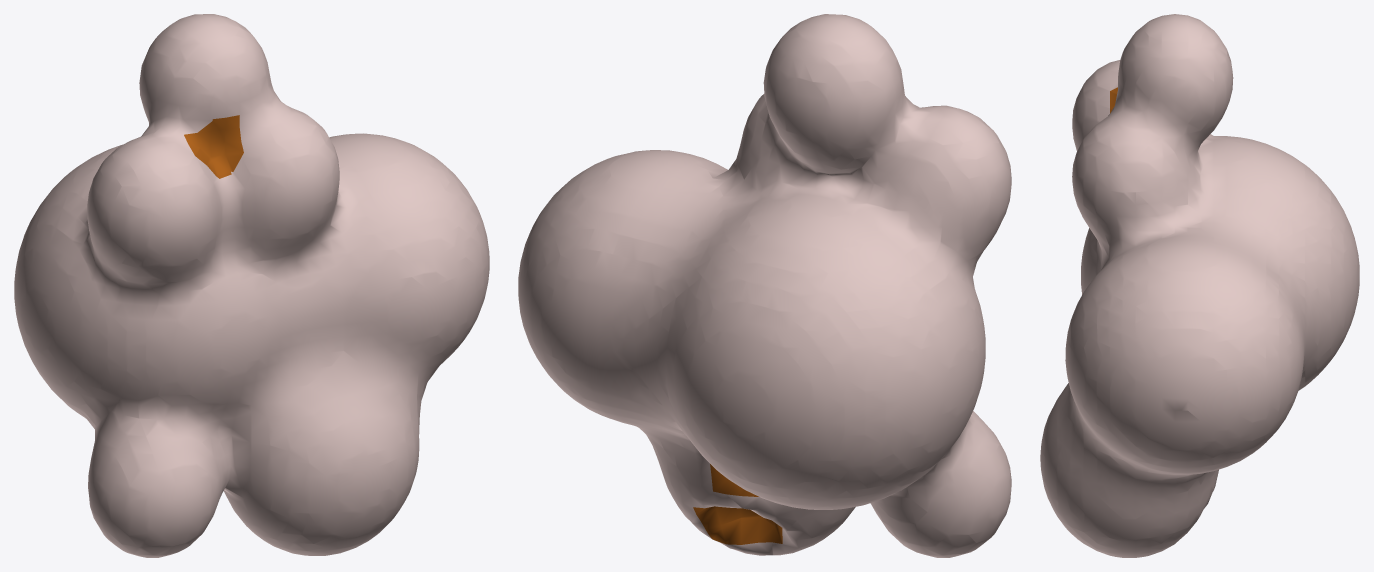
Rendered from pop001.fbx.
The picture shows the model from 3 angles, left to right: view 1: azimuth 30°, elevation 25°; view 2: azimuth 150°, elevation 25°; view 3: azimuth 270°, elevation 25°; orthographic projection. The views are drawn at different scales.
Visible parts, largest first — view 1: POPCORN_001; view 2: POPCORN_001; view 3: POPCORN_001.
Boxes of the visible parts, x1,y1,x2,y2 form: POPCORN_001: [14, 14, 489, 557]; POPCORN_001: [518, 14, 1011, 557]; POPCORN_001: [1040, 14, 1359, 557].
Size of the model in its own units: 96.45 by 117 by 69.25.
